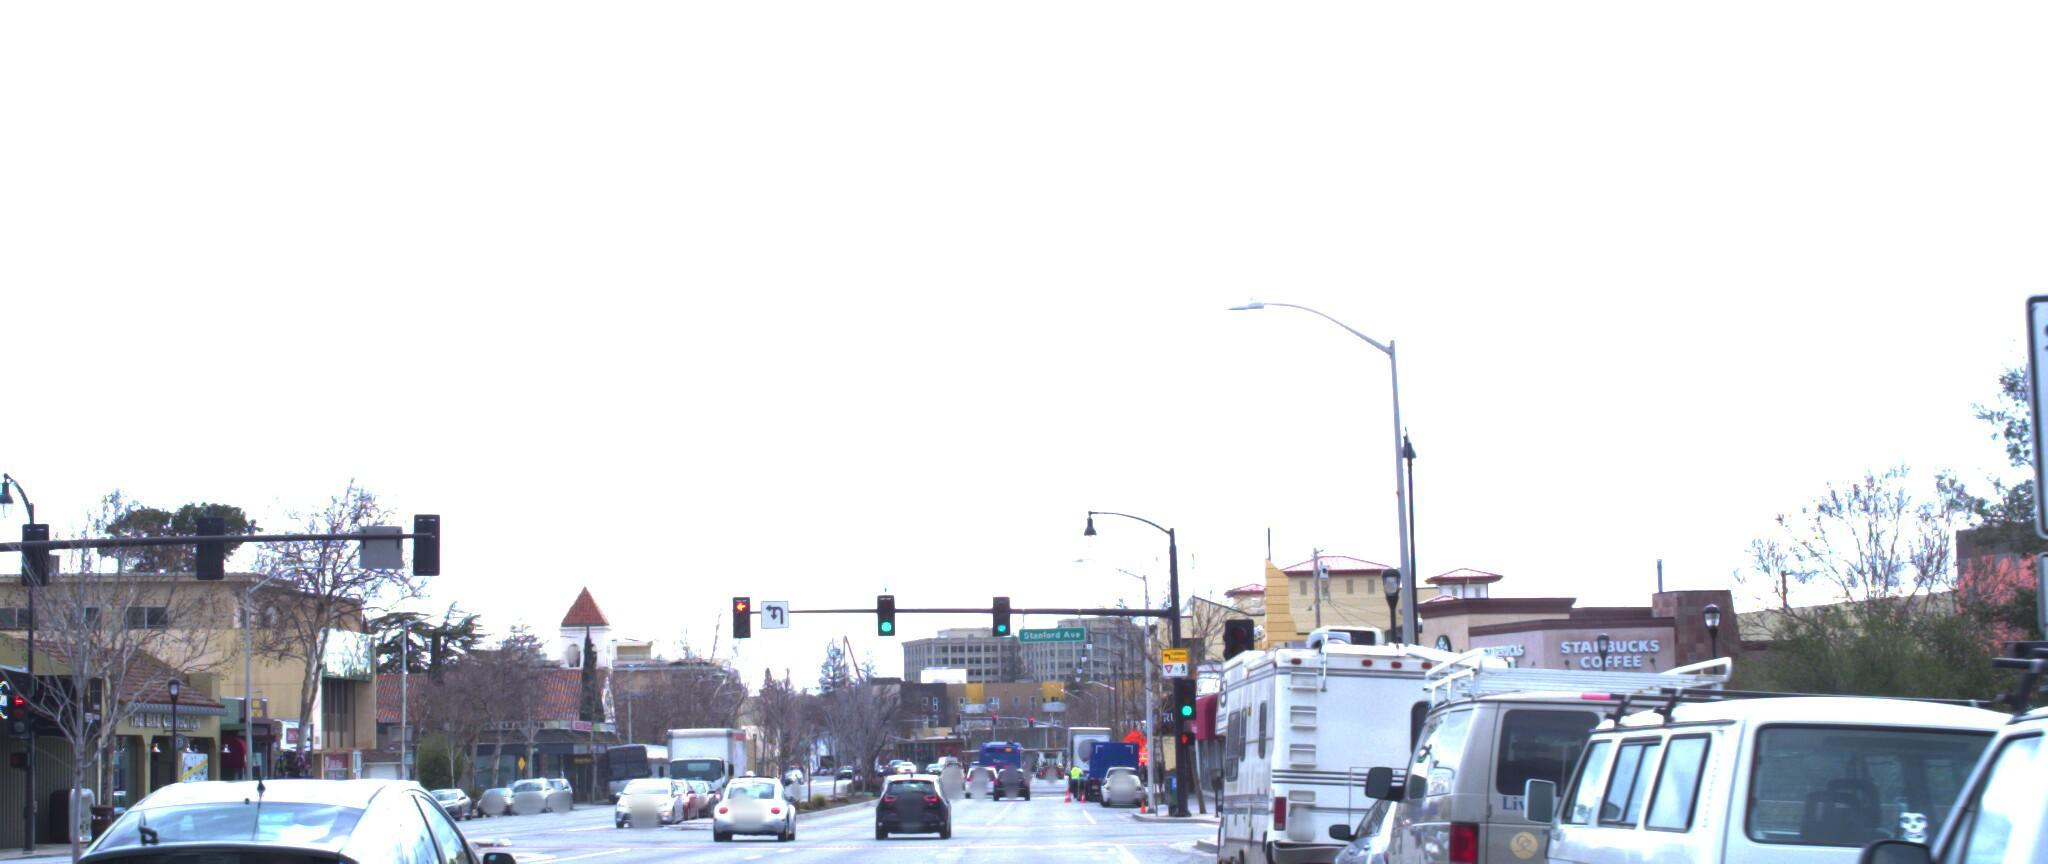car: (1505, 662, 2048, 864), (1360, 629, 1767, 864), (1742, 583, 2048, 864), (14, 761, 552, 864), (97, 767, 438, 864), (1300, 760, 1591, 864), (701, 752, 788, 827), (865, 754, 953, 827)
other_vehicle: (1196, 600, 1522, 864)
